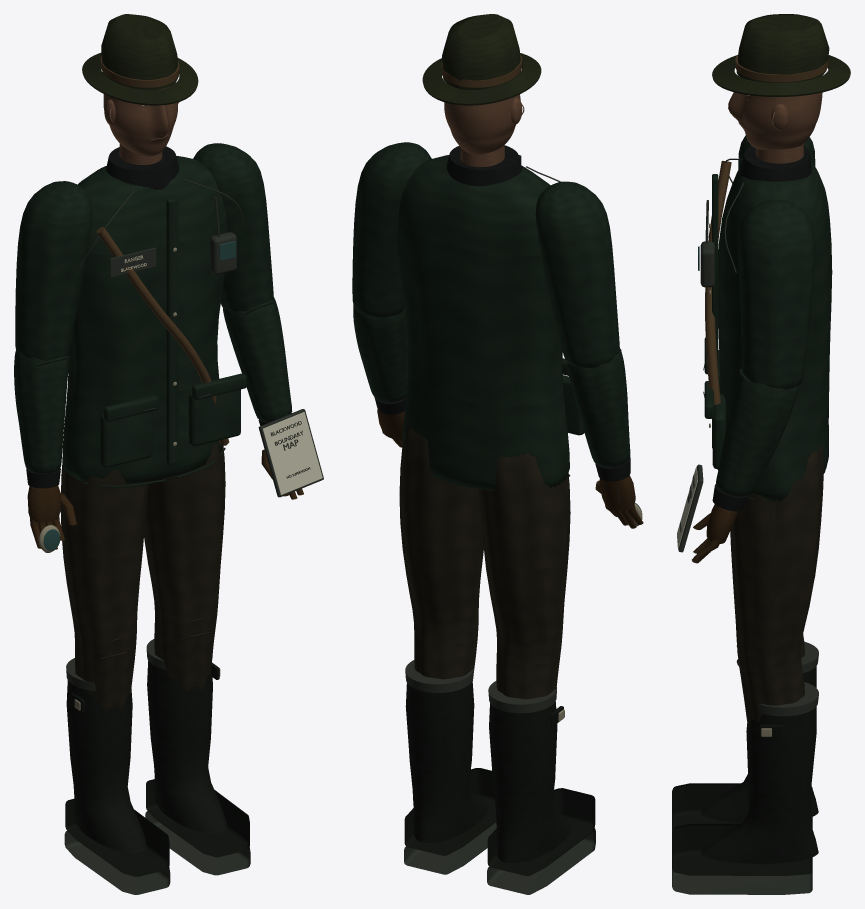
Rendered from ranger.glb.
The picture shows the model from 3 angles, left to right: view 1: azimuth 30°, elevation 25°; view 2: azimuth 150°, elevation 25°; view 3: azimuth 270°, elevation 25°; orthographic projection. The views are drawn at different scales.
Visible parts, largest first — view 1: Idle breathing chest / Faded forest canvas, ranger / Ranger earth trousers, ranger / Rubber with dried mud, Left shoulder idle / Faded forest canvas, Right shoulder idle / Faded forest canvas, Head watchful idle / Rain hat olive felt, Left forearm idle / Faded forest canvas, Right forearm idle / Faded forest canvas, ranger / Dark seams, Head watchful idle / Ranger weathered skin, Right forearm idle / Inspection label paper, Idle breathing chest / Dark seams (+5 smaller); view 2: Idle breathing chest / Faded forest canvas, ranger / Ranger earth trousers, ranger / Rubber with dried mud, Left shoulder idle / Faded forest canvas, Right shoulder idle / Faded forest canvas, Head watchful idle / Rain hat olive felt, ranger / Dark seams, Left forearm idle / Faded forest canvas, Right forearm idle / Faded forest canvas, Head watchful idle / Ranger weathered skin, Idle breathing chest / Charcoal ribbed wool, Left forearm idle / Work glove leather (+3 smaller); view 3: ranger / Rubber with dried mud, Idle breathing chest / Faded forest canvas, ranger / Ranger earth trousers, Right shoulder idle / Faded forest canvas, Head watchful idle / Rain hat olive felt, Right forearm idle / Faded forest canvas, Head watchful idle / Ranger weathered skin, ranger / Dark seams, Idle breathing chest / Brown field leather, Idle breathing chest / Charcoal ribbed wool, Right forearm idle / Work glove leather, Idle breathing chest / Dark seams (+5 smaller).
Boxes of the visible parts, x1,y1,x2,y2 form: Idle breathing chest / Faded forest canvas: (62, 156, 246, 487); ranger / Ranger earth trousers: (60, 442, 225, 711); ranger / Rubber with dried mud: (65, 660, 249, 876); Left shoulder idle / Faded forest canvas: (15, 181, 92, 360); Right shoulder idle / Faded forest canvas: (193, 143, 273, 312); Head watchful idle / Rain hat olive felt: (82, 14, 198, 105); Left forearm idle / Faded forest canvas: (14, 351, 69, 473); Right forearm idle / Faded forest canvas: (223, 297, 292, 421); ranger / Dark seams: (64, 639, 250, 894); Head watchful idle / Ranger weathered skin: (103, 83, 177, 156); Right forearm idle / Inspection label paper: (263, 412, 322, 494); Idle breathing chest / Dark seams: (79, 178, 244, 410); Idle breathing chest / Faded forest canvas: (397, 155, 584, 491); ranger / Ranger earth trousers: (399, 427, 570, 699); ranger / Rubber with dried mud: (404, 681, 595, 875); Left shoulder idle / Faded forest canvas: (535, 181, 619, 367); Right shoulder idle / Faded forest canvas: (352, 142, 431, 317); Head watchful idle / Rain hat olive felt: (422, 14, 541, 105); ranger / Dark seams: (404, 660, 595, 894); Left forearm idle / Faded forest canvas: (566, 348, 630, 467); Right forearm idle / Faded forest canvas: (353, 305, 408, 402); Head watchful idle / Ranger weathered skin: (444, 82, 522, 154); Idle breathing chest / Charcoal ribbed wool: (446, 145, 521, 186); Left forearm idle / Work glove leather: (595, 475, 643, 528); ranger / Rubber with dried mud: (672, 666, 818, 875); Idle breathing chest / Faded forest canvas: (704, 160, 832, 501); ranger / Ranger earth trousers: (730, 445, 823, 727); Right shoulder idle / Faded forest canvas: (738, 199, 815, 389); Head watchful idle / Rain hat olive felt: (712, 14, 850, 96); Right forearm idle / Faded forest canvas: (716, 368, 799, 496); Head watchful idle / Ranger weathered skin: (728, 92, 822, 149); ranger / Dark seams: (672, 641, 818, 894); Idle breathing chest / Brown field leather: (705, 161, 731, 405); Idle breathing chest / Charcoal ribbed wool: (739, 145, 811, 181); Right forearm idle / Work glove leather: (692, 504, 737, 563); Idle breathing chest / Dark seams: (700, 158, 743, 397).
Size of the model in its own units: 0.615 by 1.82 by 0.3508.
Materials: 18 (7 with a texture image).
